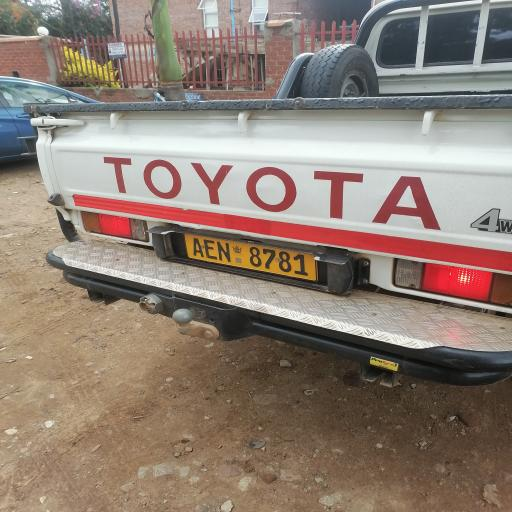number-plates: (181, 227, 317, 285)
